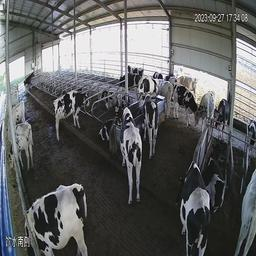cow: (13, 167, 89, 249), (171, 161, 213, 255), (116, 102, 146, 222), (49, 84, 90, 142), (207, 138, 228, 221), (5, 124, 38, 170), (239, 153, 255, 247), (173, 81, 198, 131), (142, 92, 160, 160), (194, 88, 214, 131), (6, 99, 29, 131), (158, 66, 173, 115), (216, 92, 228, 143), (137, 73, 160, 98), (118, 67, 138, 93), (98, 82, 114, 111), (4, 84, 20, 105)
